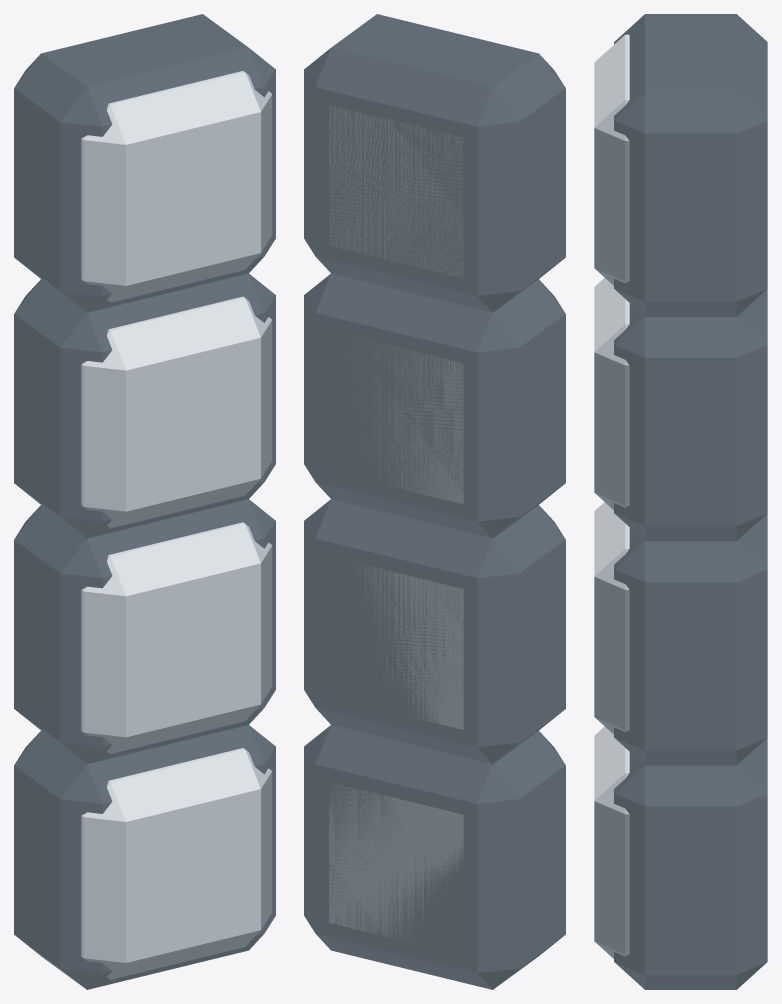
Rendered from Terrain_Block1x4.gltf.
The picture shows the model from 3 angles, left to right: view 1: azimuth 30°, elevation 25°; view 2: azimuth 150°, elevation 25°; view 3: azimuth 270°, elevation 25°; orthographic projection.
Parts seen in each view (by area): view 1: Terrain_Block1x4_baked; view 2: Terrain_Block1x4_baked; view 3: Terrain_Block1x4_baked.
Boxes of the visible parts, box(x1,y1,x2,y2) form: Terrain_Block1x4_baked: box(14, 14, 275, 989); Terrain_Block1x4_baked: box(304, 14, 565, 989); Terrain_Block1x4_baked: box(594, 14, 767, 989).
Size of the model in its own units: 1 by 4 by 0.7.
